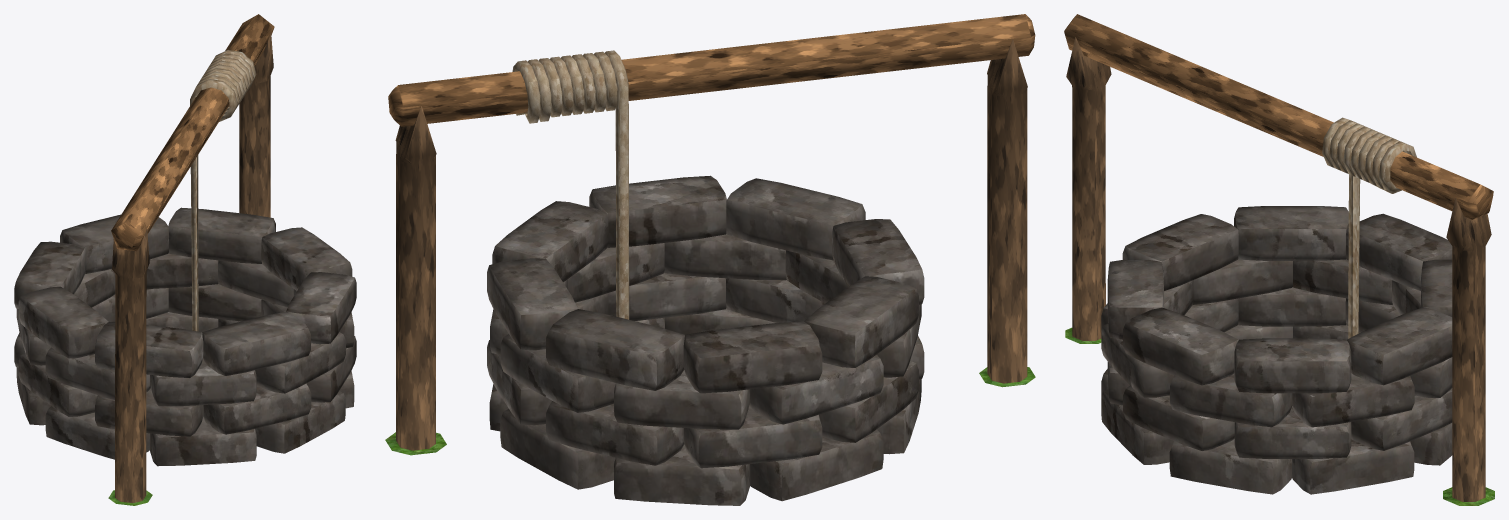
Rendered from well.fbx.
3 renders of one model, left to right at view 1: azimuth 30°, elevation 25°; view 2: azimuth 150°, elevation 25°; view 3: azimuth 270°, elevation 25°, orthographic. The views are drawn at different scales.
Visible parts, largest first — view 1: zdfdfd, wefa, Rope.001; view 2: zdfdfd, wefa, Rope.001; view 3: zdfdfd, wefa, Rope.001.
Boxes of the visible parts, bbox=[...] form: zdfdfd: bbox=[14, 207, 356, 466]; wefa: bbox=[108, 14, 274, 505]; Rope.001: bbox=[190, 49, 256, 331]; zdfdfd: bbox=[487, 175, 924, 505]; wefa: bbox=[385, 14, 1035, 455]; Rope.001: bbox=[512, 50, 629, 319]; zdfdfd: bbox=[1101, 206, 1452, 494]; wefa: bbox=[1064, 14, 1494, 505]; Rope.001: bbox=[1322, 117, 1416, 338].
Size of the model in its own units: 221 by 190 by 221.
